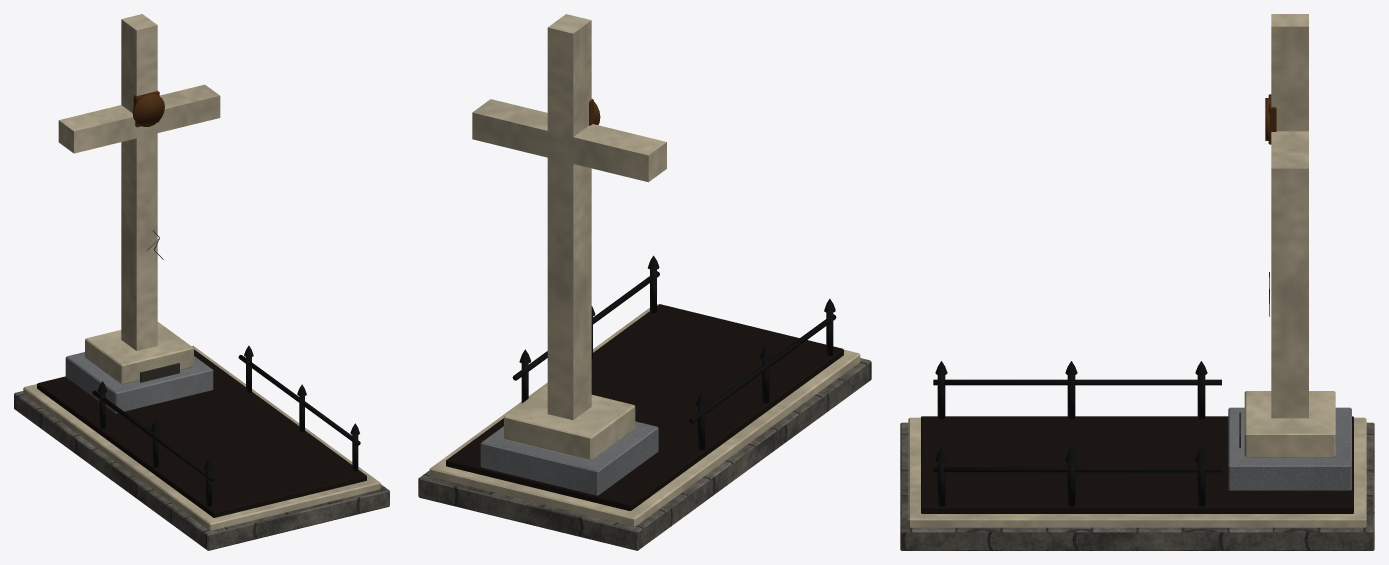
Rendered from tumba_02_cruz_alta.obj.
The picture shows the model from 3 angles, left to right: view 1: azimuth 30°, elevation 25°; view 2: azimuth 150°, elevation 25°; view 3: azimuth 270°, elevation 25°; orthographic projection. The views are drawn at different scales.
Parts seen in each view (by area): view 1: Tumba_02_Cruz_Alta; view 2: Tumba_02_Cruz_Alta; view 3: Tumba_02_Cruz_Alta.
Boxes of the visible parts, left/top/right/bottom form: Tumba_02_Cruz_Alta: left=14, top=14, right=389, bottom=550; Tumba_02_Cruz_Alta: left=418, top=14, right=871, bottom=550; Tumba_02_Cruz_Alta: left=900, top=14, right=1374, bottom=550.
Size of the model in its own units: 1.25 by 2.55 by 2.3.
7 materials, 3 textured.
